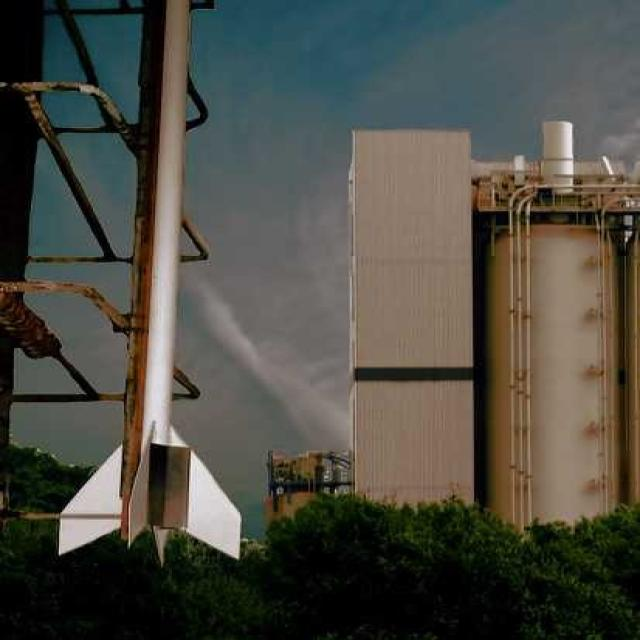missile: (50, 0, 241, 558)
